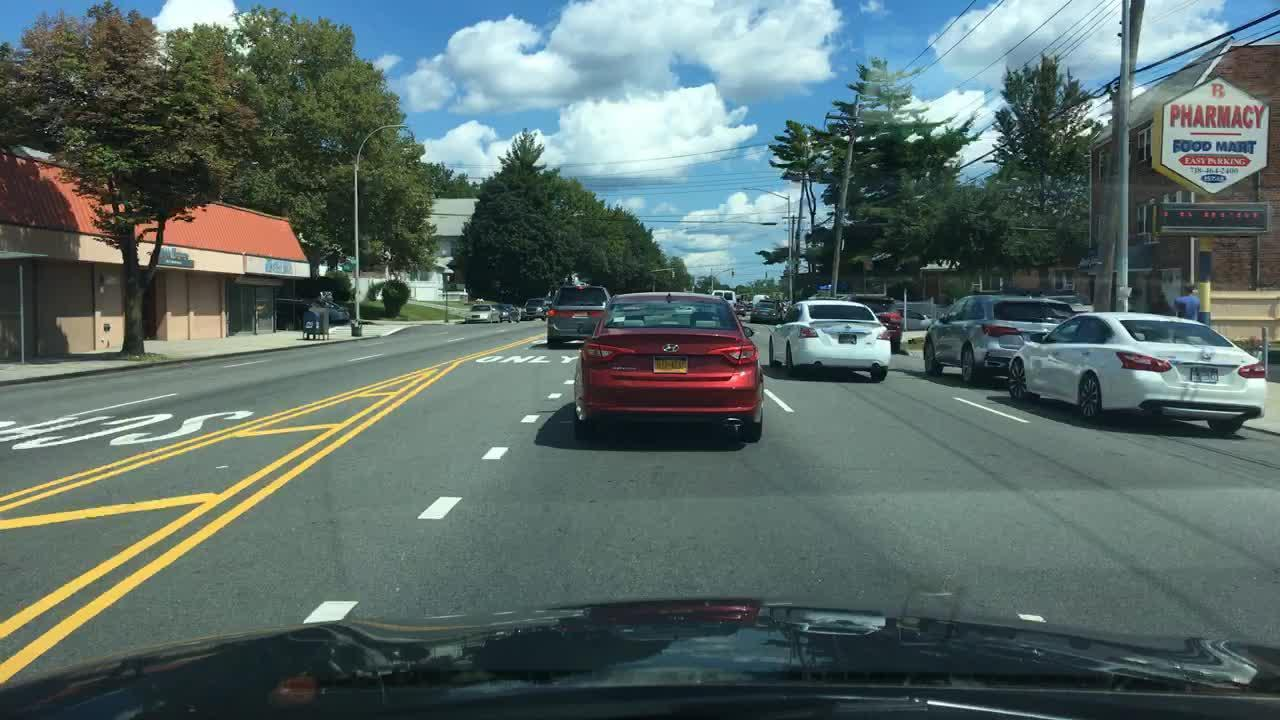Hyundai: (653, 335, 685, 357)
